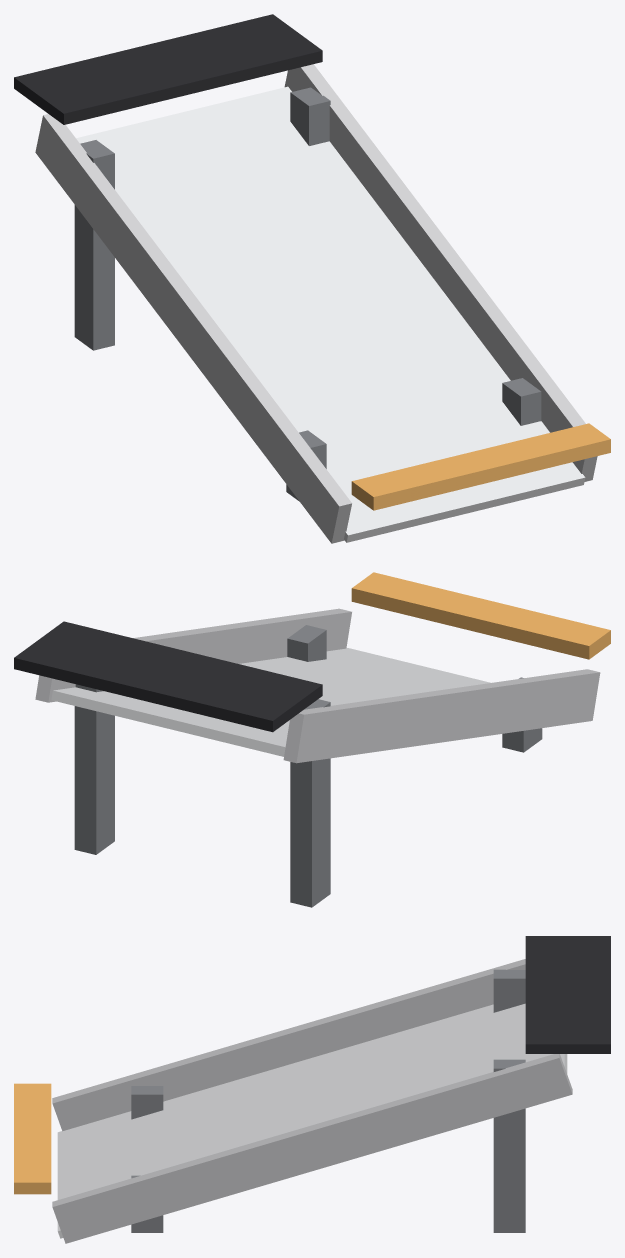
The model's file is intake-chute.glb.
3 views of the same model, one above another, from view 1: azimuth 30°, elevation 25°; view 2: azimuth 150°, elevation 25°; view 3: azimuth 270°, elevation 25° (orthographic). The views are drawn at different scales.
Visible parts, largest first — view 1: body, flap; view 2: body, flap; view 3: body, flap.
Boxes of the visible parts, x1,y1,x2,y2 form: body: [14, 14, 597, 543]; flap: [351, 423, 610, 510]; body: [14, 608, 600, 907]; flap: [351, 572, 610, 659]; body: [52, 936, 610, 1243]; flap: [14, 1083, 51, 1194].
Bounding box in the file's own units: 0.242 × 0.2063 × 0.56.
